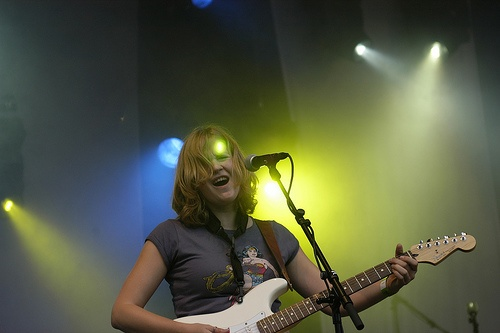head: (176, 123, 249, 209)
person: (103, 122, 408, 333)
